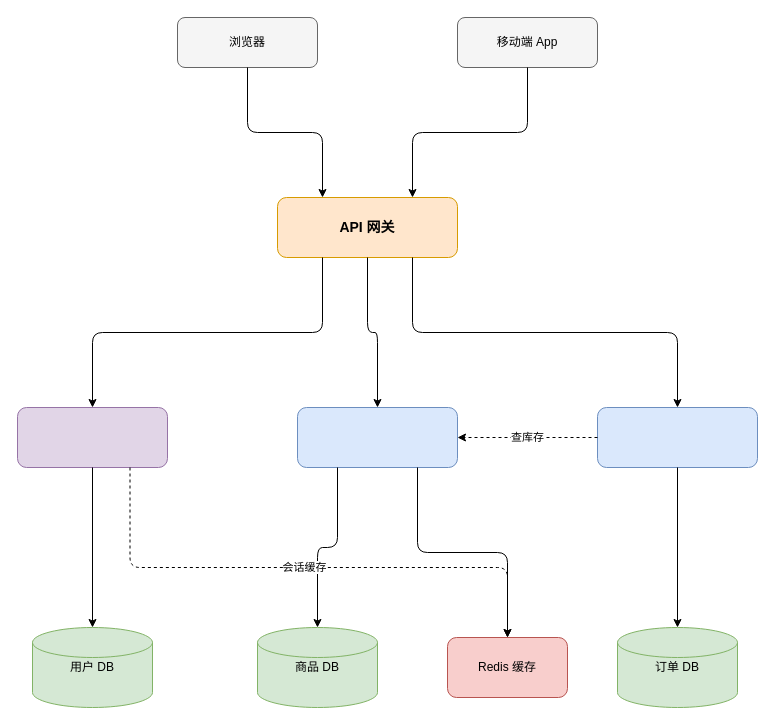
The diagram is 775 pixels wide and 725 high, and some of its shapes have lost their labels. Each missing label, with the box of its shape:
商品服务: (296, 406, 458, 468)
订单服务: (596, 406, 758, 468)
认证服务: (16, 406, 168, 468)
